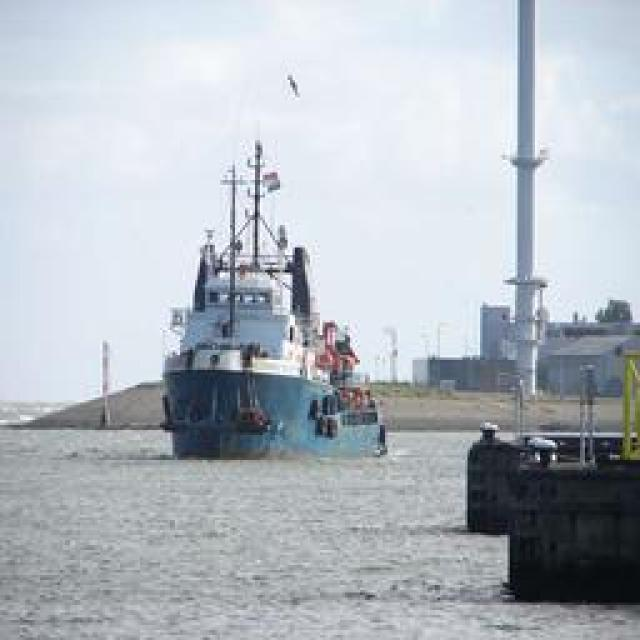CIV_Ship: (158, 111, 398, 461)
